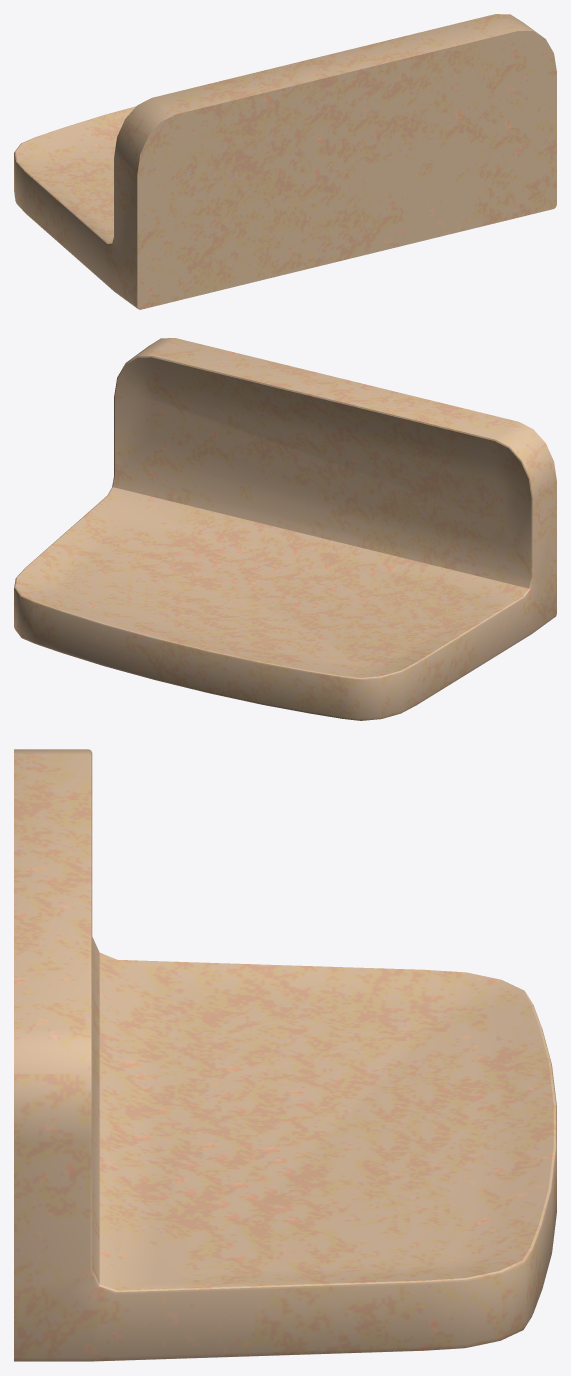
File: porta_cepillos.fbx
The picture shows the model from 3 angles, top to bottom: view 1: azimuth 30°, elevation 25°; view 2: azimuth 150°, elevation 25°; view 3: azimuth 270°, elevation 25°; orthographic projection. The views are drawn at different scales.
Visible parts, largest first — view 1: porta cepillo; view 2: porta cepillo; view 3: porta cepillo.
Boxes of the visible parts, x1=… form: porta cepillo: x1=14, y1=14, x2=556, y2=309; porta cepillo: x1=14, y1=338, x2=556, y2=720; porta cepillo: x1=14, y1=749, x2=556, y2=1361.
Size of the model in its own units: 16.22 by 6.89 by 11.12.
